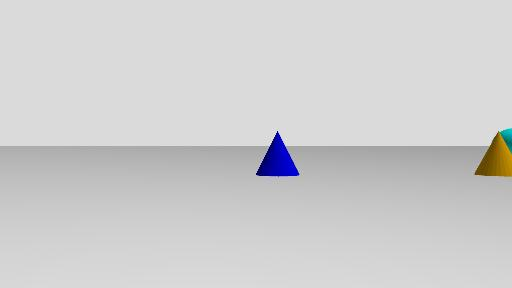blue_cone: (254, 131, 298, 176)
orange_cone: (474, 131, 512, 177)
